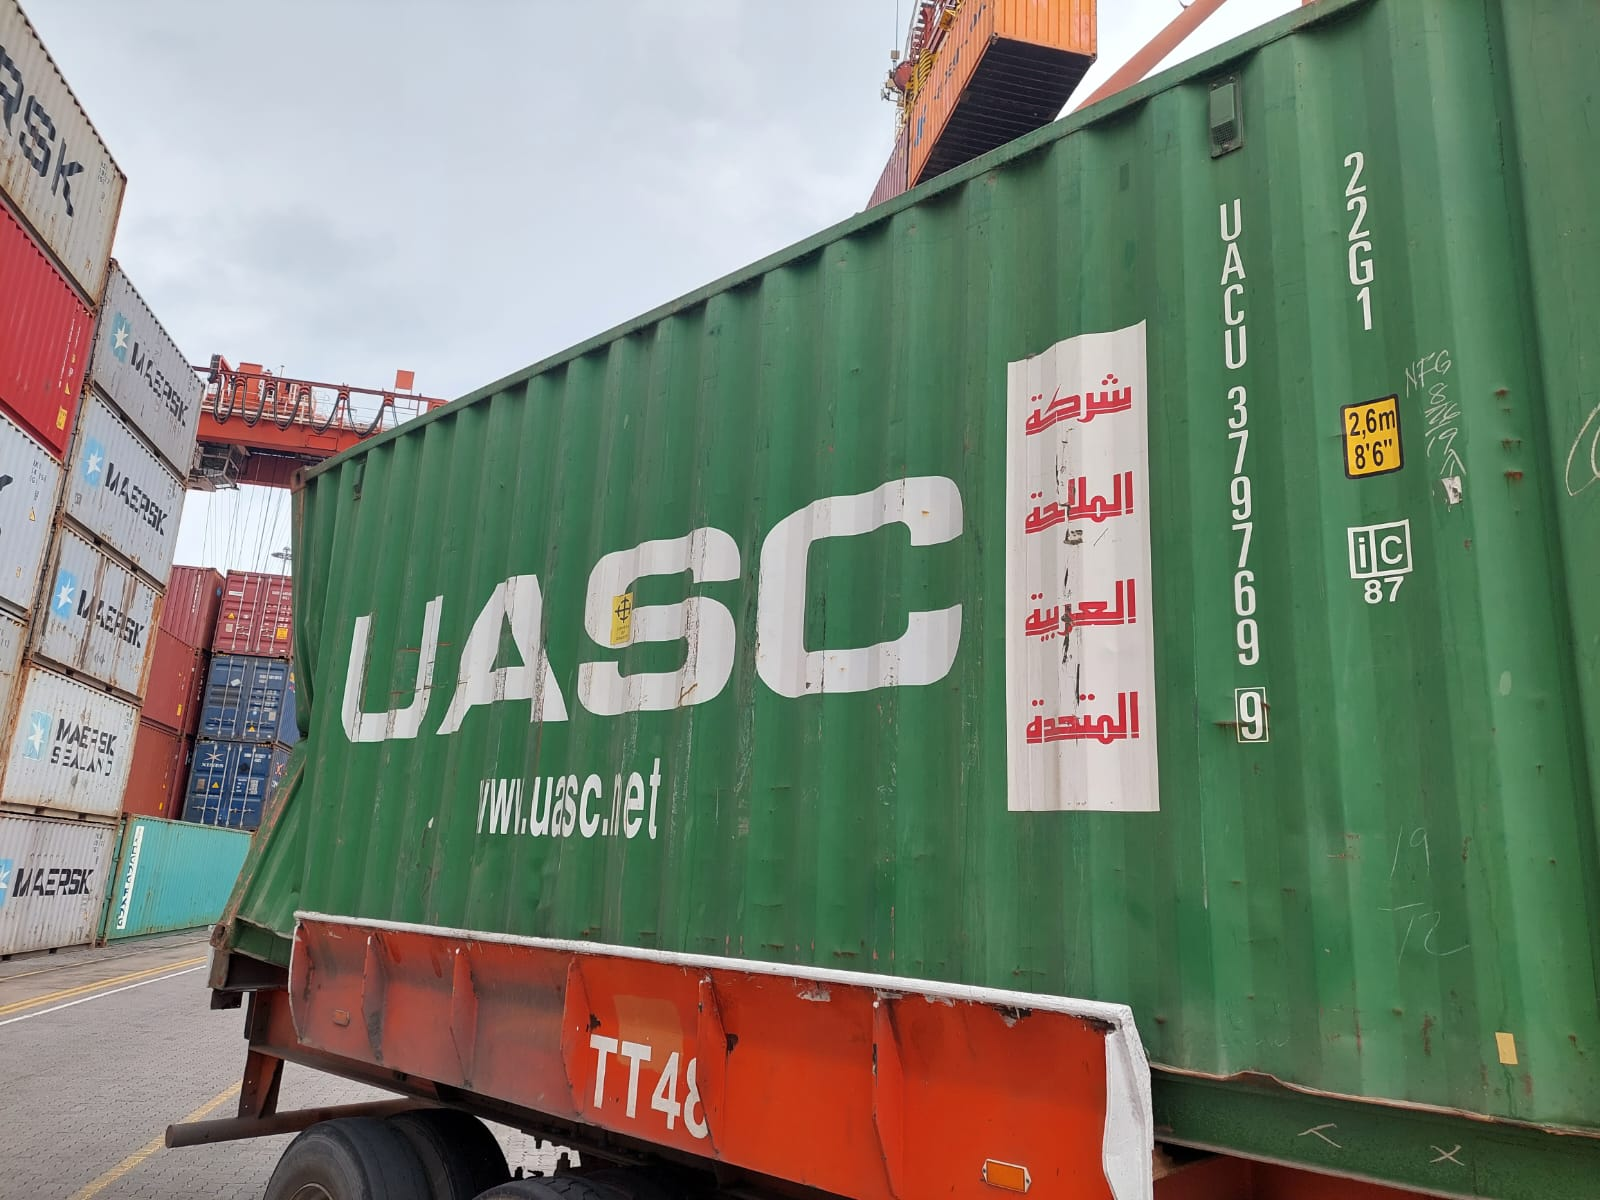dented: (270, 556, 344, 877), (1475, 378, 1560, 527), (1198, 700, 1323, 783)
